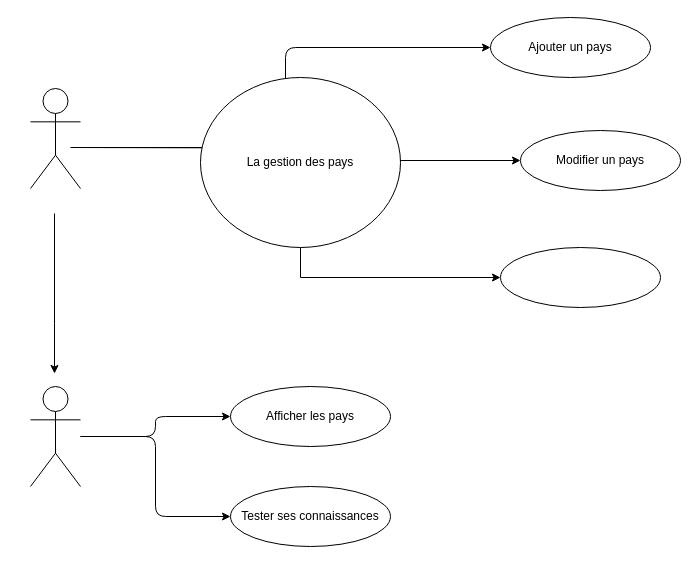
Some shapes in this 698 by 564 pixel diagram are drawn without their labels. Each missing label, with the centre of its shape:
Administrateur: the point at 55,138
Supprimer un pays: the point at 580,277
Élève: the point at 55,436
